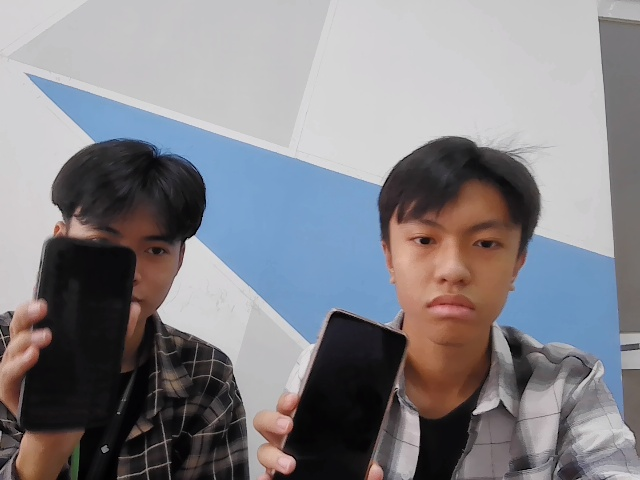human: (368, 130, 540, 333)
phone: (23, 224, 138, 436), (285, 305, 411, 480)
